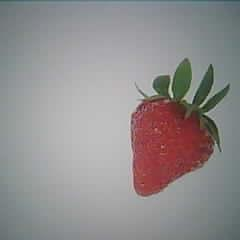straw-ripe: (131, 94, 215, 196)
